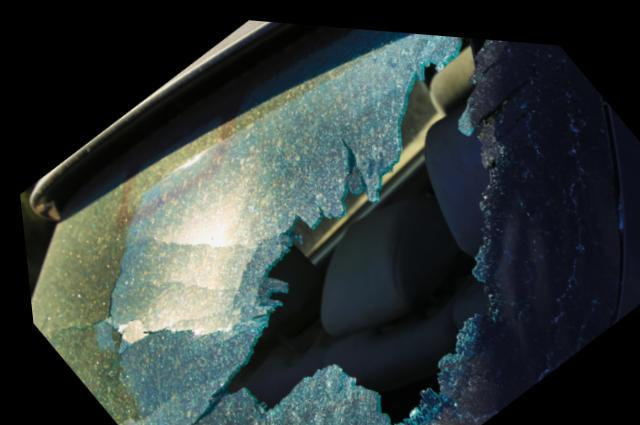glass shatter: (24, 21, 619, 425)
